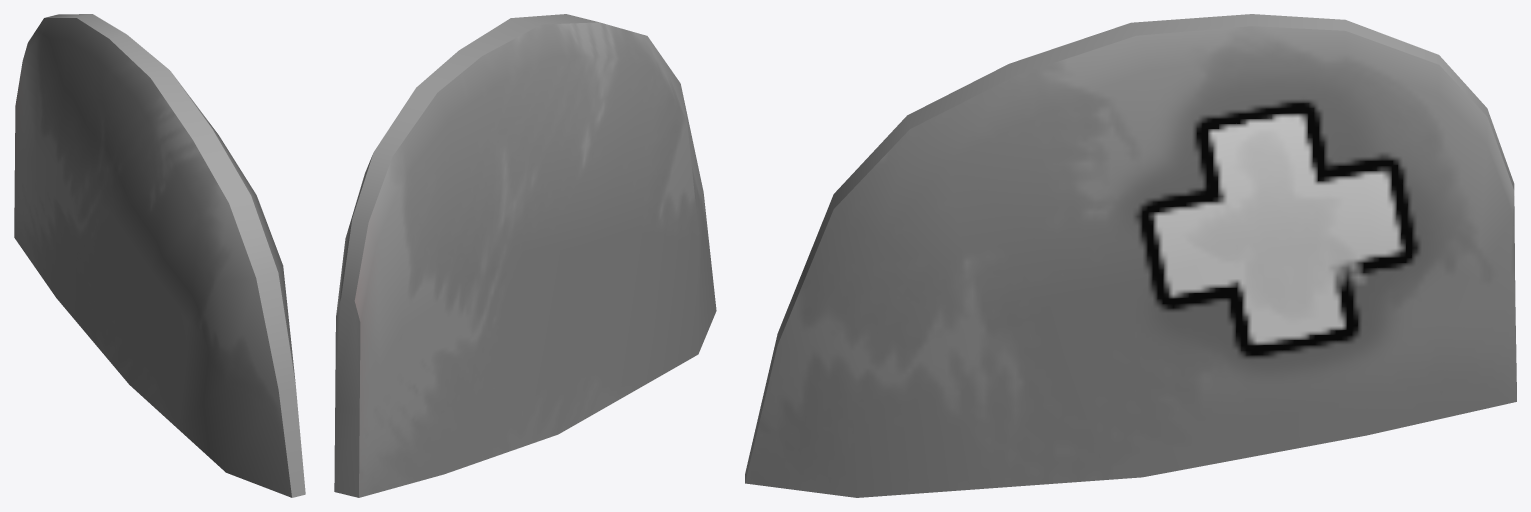
Rendered from TailFin1.FBX.
The picture shows the model from 3 angles, left to right: view 1: azimuth 30°, elevation 25°; view 2: azimuth 150°, elevation 25°; view 3: azimuth 270°, elevation 25°; orthographic projection. The views are drawn at different scales.
Parts seen in each view (by area): view 1: TailFin1; view 2: TailFin1; view 3: TailFin1.
Part boxes in pixels (x1,y1,x2,y2): TailFin1: [14, 14, 305, 497]; TailFin1: [334, 14, 716, 497]; TailFin1: [745, 14, 1516, 497].
Bounding box in the file's own units: 2.4 × 11.42 × 17.41.
Materials: 1 (1 with a texture image).
